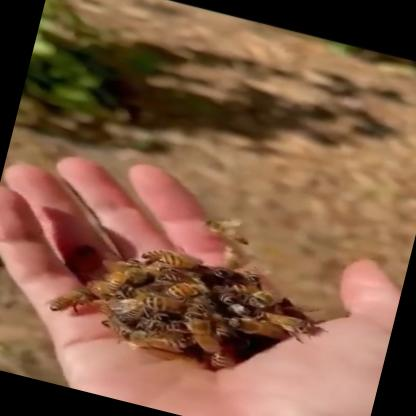bee: (65, 184, 379, 416), (28, 261, 331, 396)
